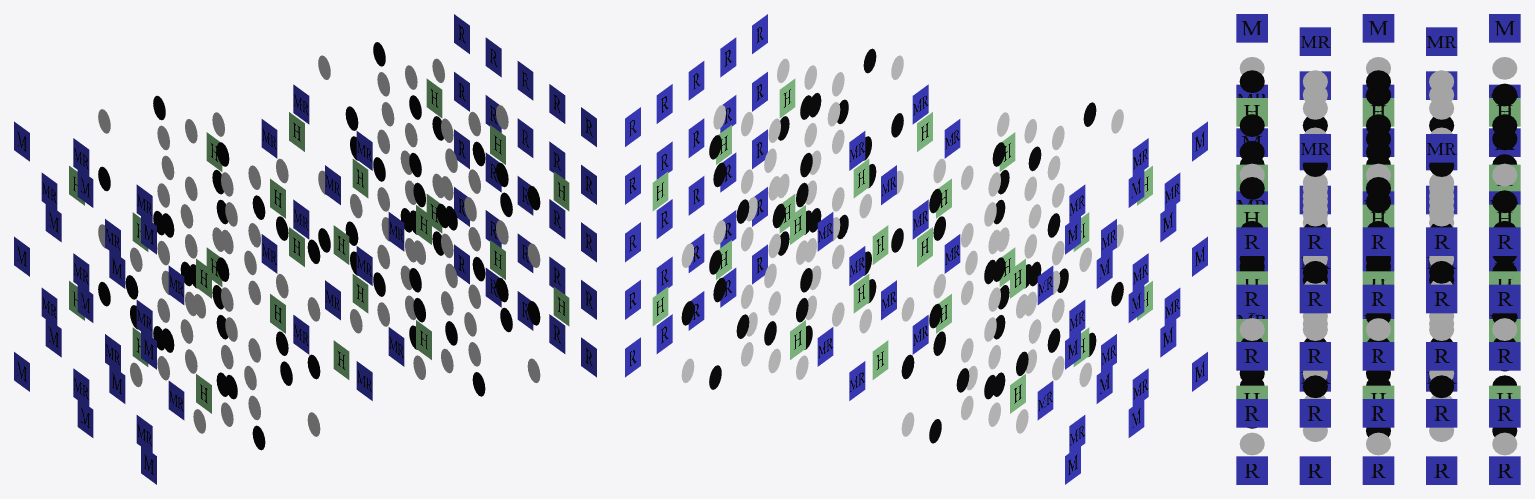
Rendered from surface_code.gltf.
3 renders of one model, left to right at view 1: azimuth 30°, elevation 25°; view 2: azimuth 150°, elevation 25°; view 3: azimuth 270°, elevation 25°, orthographic.
Size of the model in its own units: 16 by 9 by 9.
3 materials, 1 textured.
